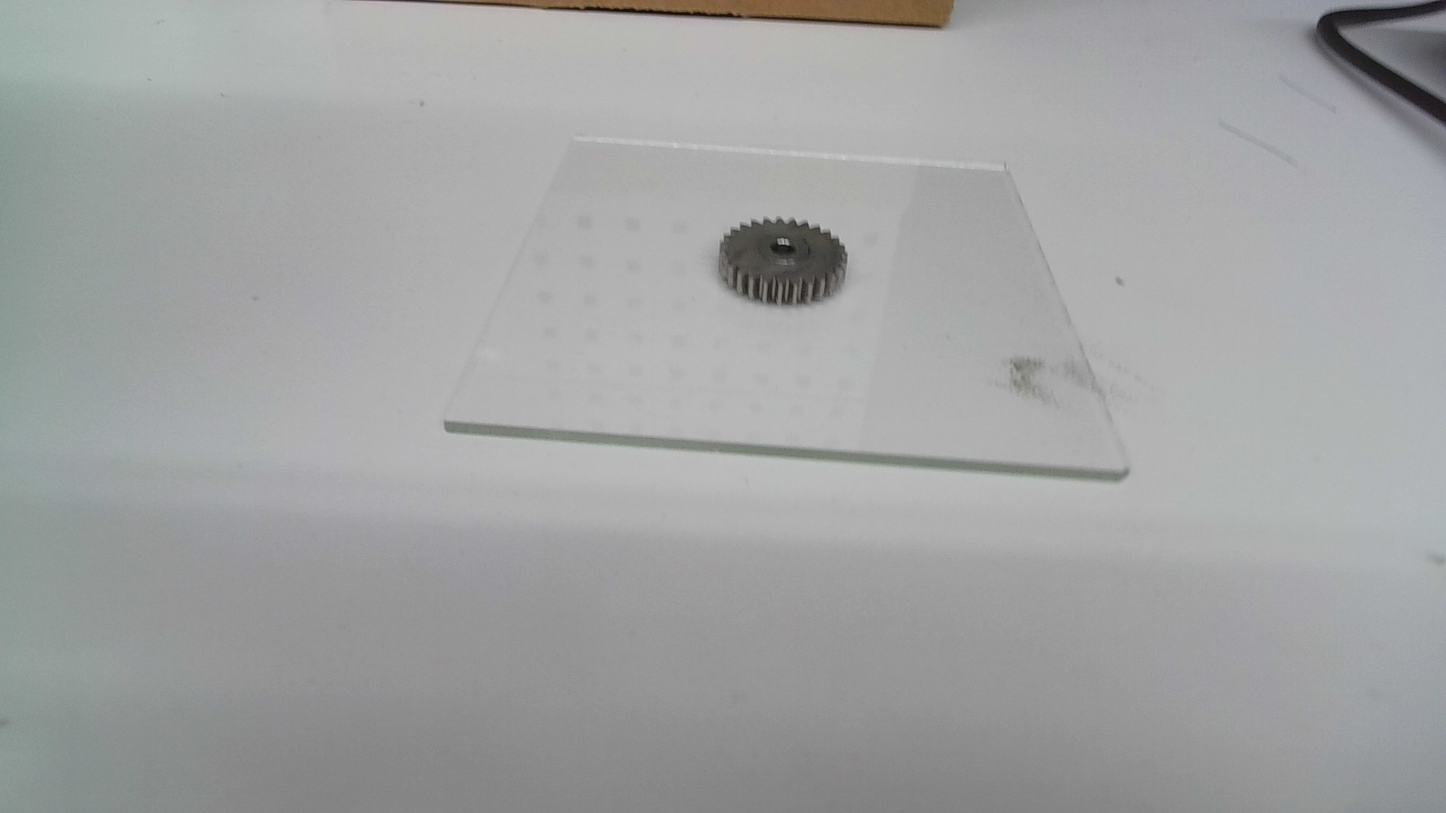gear: (715, 216, 850, 309)
